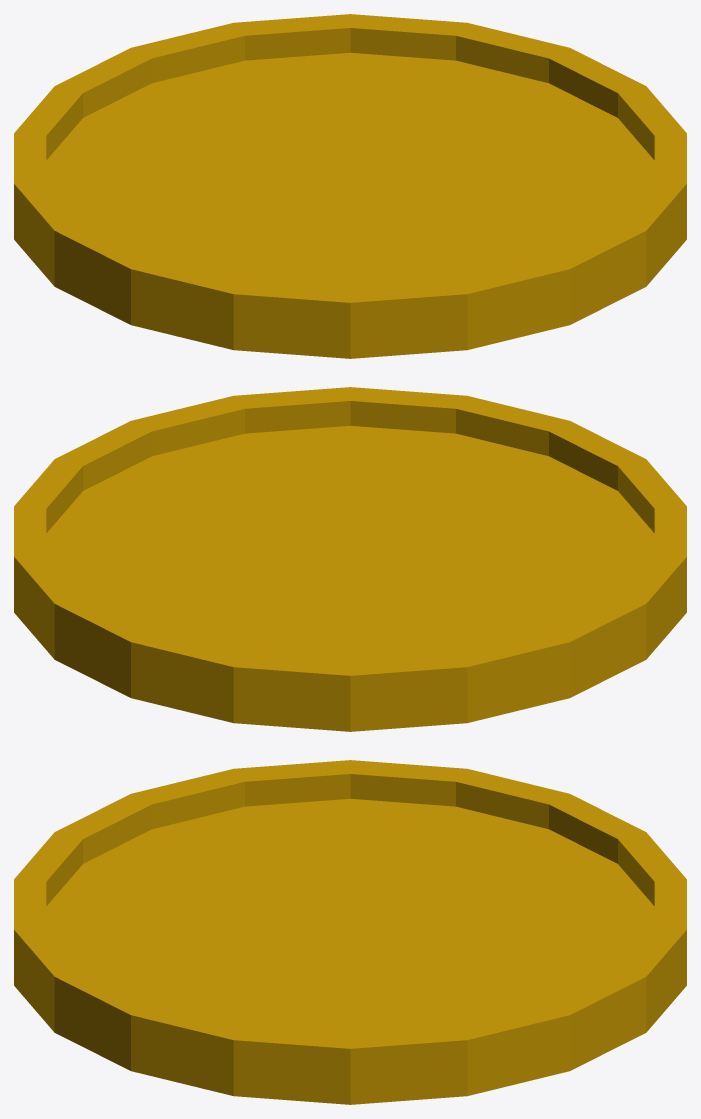
Rendered from good_coin.fbx.
3 views of the same model, one above another, from view 1: azimuth 30°, elevation 25°; view 2: azimuth 150°, elevation 25°; view 3: azimuth 270°, elevation 25° (orthographic).
Parts seen in each view (by area): view 1: pCylinder1; view 2: pCylinder1; view 3: pCylinder1.
Boxes of the visible parts, x1=… form: pCylinder1: x1=14, y1=14, x2=686, y2=358; pCylinder1: x1=14, y1=387, x2=686, y2=731; pCylinder1: x1=14, y1=760, x2=686, y2=1104.
Bounding box in the file's own units: 8.12 × 0.7345 × 8.
